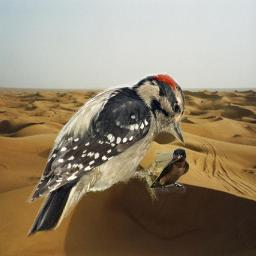Swallow: (149, 148, 189, 194)
Woodpecker: (13, 71, 185, 243)
